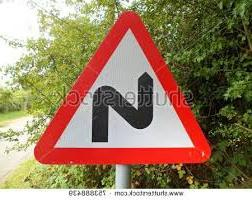double_bend_right: (35, 7, 209, 164)
